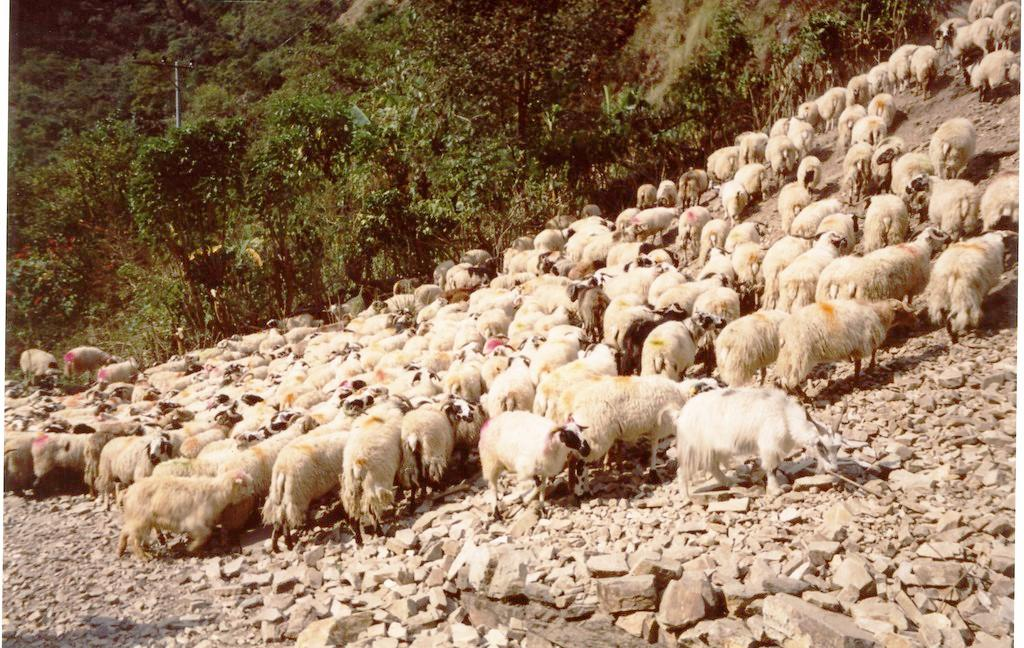Sheep: (659, 390, 849, 491), (466, 402, 596, 520), (554, 371, 690, 482), (773, 297, 906, 397), (117, 467, 257, 562), (186, 430, 301, 542), (262, 421, 358, 552), (922, 231, 1016, 338), (340, 408, 414, 540), (820, 230, 942, 307), (771, 230, 852, 314), (398, 399, 460, 499), (715, 308, 791, 389), (536, 345, 616, 420), (100, 429, 174, 509), (228, 421, 316, 479), (28, 429, 98, 500), (149, 438, 237, 490), (913, 174, 981, 239), (438, 393, 488, 471), (641, 318, 702, 380), (600, 294, 656, 356), (485, 355, 539, 418), (690, 284, 742, 349), (340, 397, 408, 444), (860, 193, 914, 252), (928, 116, 978, 178), (968, 48, 1020, 103), (528, 328, 586, 377), (950, 17, 1003, 68), (654, 278, 721, 318), (979, 172, 1020, 234), (790, 196, 845, 242), (516, 276, 578, 316), (597, 262, 659, 302), (890, 151, 934, 207), (304, 404, 368, 442), (4, 432, 42, 494), (861, 297, 917, 338), (443, 357, 489, 404), (568, 339, 622, 379), (976, 229, 1020, 276), (841, 143, 876, 202), (626, 206, 680, 243), (226, 398, 279, 435), (676, 204, 714, 255), (776, 180, 814, 231), (62, 346, 113, 384), (728, 241, 766, 291), (870, 141, 905, 193), (694, 247, 738, 288), (907, 45, 941, 98), (393, 367, 444, 402), (563, 228, 612, 264), (697, 218, 732, 267), (644, 261, 690, 298), (886, 43, 922, 90), (764, 133, 800, 180), (272, 369, 315, 406), (192, 433, 246, 462), (733, 162, 768, 206), (290, 379, 338, 411), (368, 362, 416, 394), (850, 114, 889, 153), (524, 308, 574, 338), (95, 355, 143, 386), (604, 239, 652, 270), (474, 307, 515, 343), (718, 178, 750, 224), (906, 224, 954, 254), (20, 347, 60, 383), (444, 262, 492, 292), (424, 320, 466, 354), (450, 318, 490, 353), (816, 86, 849, 128), (297, 362, 340, 394), (466, 286, 515, 314), (934, 18, 968, 58), (836, 105, 867, 148), (725, 220, 765, 253), (272, 410, 322, 436), (677, 168, 708, 209), (808, 230, 850, 260), (706, 147, 740, 184), (867, 91, 899, 130), (374, 347, 418, 375), (992, 2, 1022, 42), (220, 332, 268, 357), (564, 215, 616, 238), (143, 366, 189, 392), (518, 247, 560, 275), (786, 116, 815, 156), (352, 310, 396, 336), (412, 349, 454, 376), (796, 154, 824, 192), (356, 344, 394, 372), (737, 132, 769, 165), (430, 300, 472, 325), (370, 330, 412, 355), (752, 307, 792, 333), (532, 228, 571, 254), (846, 74, 874, 109), (331, 353, 366, 381), (865, 65, 893, 99), (264, 350, 300, 376), (544, 324, 586, 346), (183, 344, 227, 365), (682, 376, 722, 399), (272, 313, 320, 332), (416, 296, 448, 324), (398, 332, 432, 358), (488, 272, 528, 293), (282, 325, 322, 346), (255, 327, 286, 354), (383, 292, 419, 315), (3, 388, 40, 410), (968, 0, 1002, 23), (512, 334, 546, 357), (796, 100, 822, 130), (768, 116, 794, 144), (414, 284, 444, 308), (130, 379, 160, 403), (458, 249, 496, 267), (656, 180, 678, 210), (546, 256, 576, 278), (160, 353, 194, 372), (644, 247, 676, 267), (502, 247, 526, 273), (240, 362, 271, 382), (614, 207, 640, 229), (636, 184, 658, 210), (544, 214, 579, 230), (326, 302, 354, 322), (512, 236, 538, 252), (366, 299, 388, 316)
